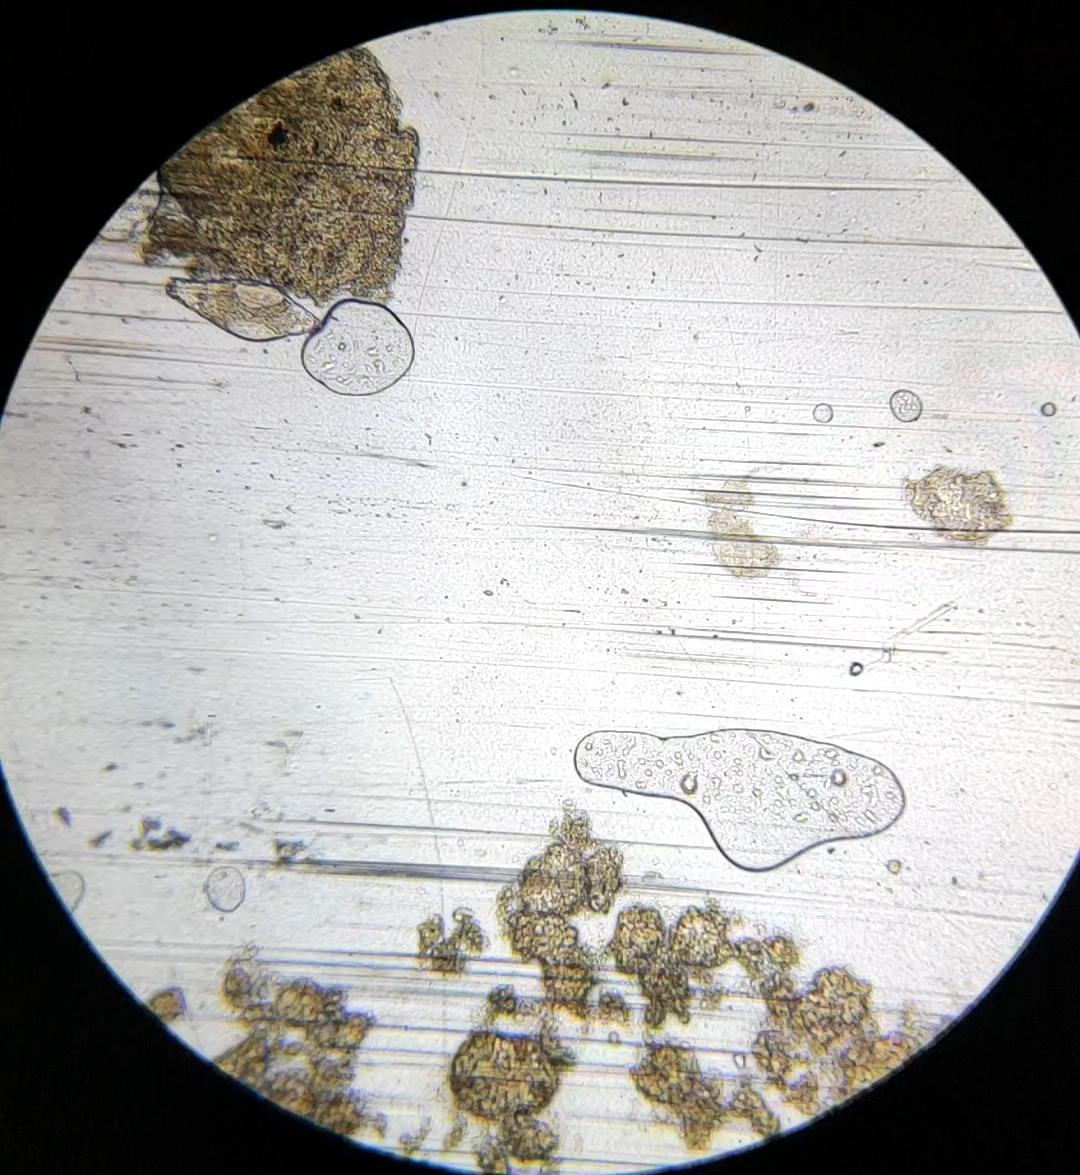Do: (165, 276, 323, 342)
